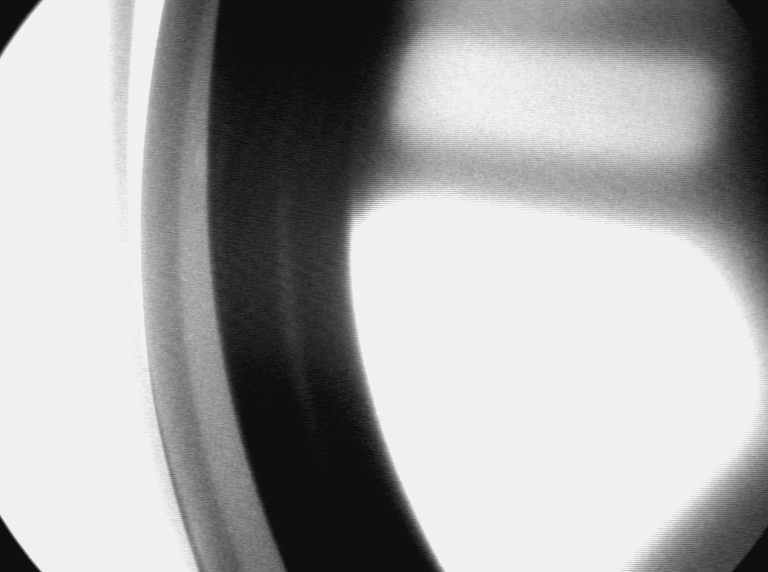defect: (196, 135, 227, 193)
